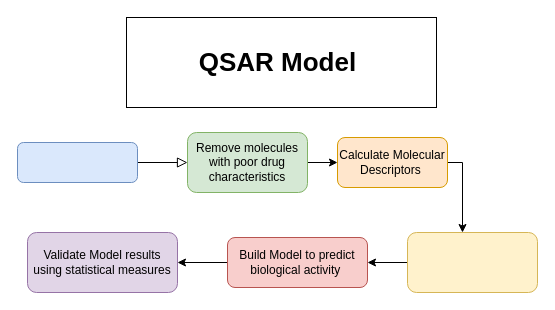
Some shapes in this 555 by 310 pixel diagram are drawn without their labels. Each missing label, with the centre of its shape:
Molecule Library: (x=77, y=162)
Select subset of molecular descriptors: (x=472, y=262)
